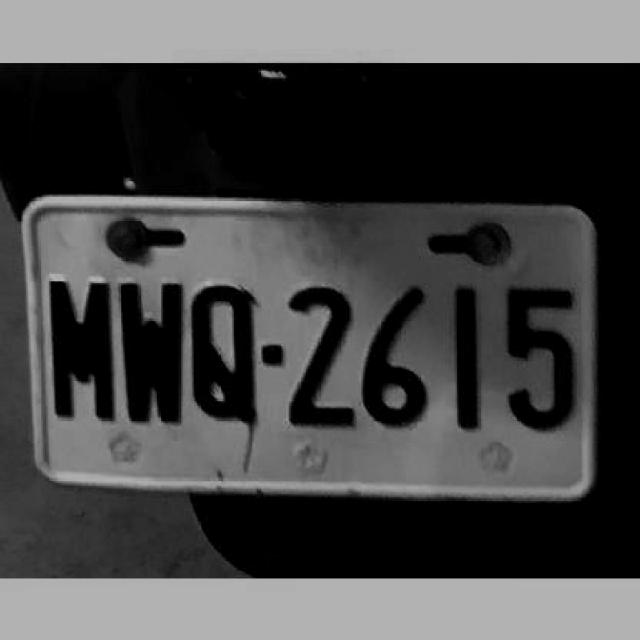-: (258, 340, 282, 366)
1: (452, 282, 478, 428)
2: (282, 277, 356, 432)
5: (505, 285, 577, 429)
6: (361, 280, 434, 434)
M: (44, 277, 116, 421)
Q: (186, 276, 257, 430)
W: (114, 275, 184, 428)
